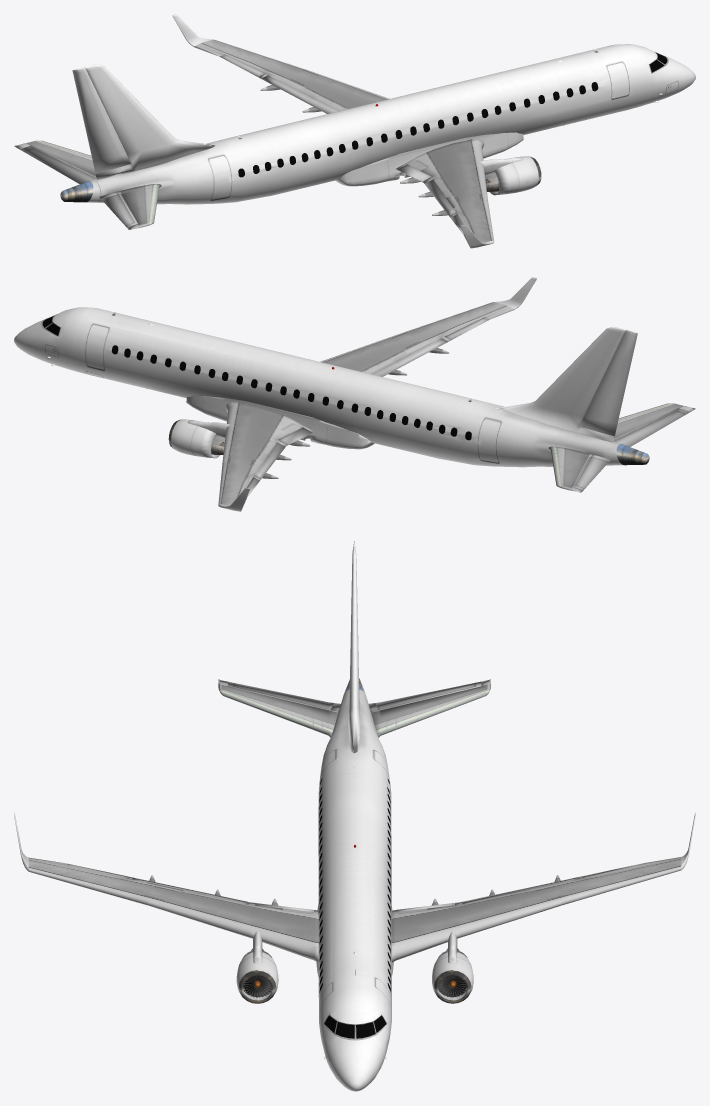
3 renders of one model, top to bottom at view 1: azimuth 30°, elevation 25°; view 2: azimuth 150°, elevation 25°; view 3: azimuth 270°, elevation 25°, orthographic. The views are drawn at different scales.
Parts seen in each view (by area): view 1: fuselage_001, vstab, rudder, fuselage, hstab, wing_002, wing_006, wing_004, wing_003, wing_009, cylinder_003, elevator_l (+9 smaller); view 2: fuselage_001, vstab, rudder, fuselage, hstab, wing_004, wing_007, wing_009, wing_002, wing_003, cylinder_003, elevator_r (+9 smaller); view 3: fuselage_001, hstab, wing_002, wing_004, wing_007, wing_006, wing_009, wing_003, vstab, nacelle, nacelle_001.
Part boxes in pixels (<box>): fuselage_001: <box>87,44,695,204</box>; vstab: <box>84,64,214,180</box>; rudder: <box>72,67,130,173</box>; fuselage: <box>335,132,523,186</box>; hstab: <box>14,140,161,229</box>; wing_002: <box>278,70,389,109</box>; wing_006: <box>396,139,483,182</box>; wing_004: <box>424,164,487,207</box>; wing_003: <box>194,39,308,79</box>; wing_009: <box>449,199,494,242</box>; cylinder_003: <box>238,91,559,177</box>; elevator_l: <box>20,145,96,183</box>; fuselage_001: <box>14,307,623,467</box>; vstab: <box>495,327,625,442</box>; rudder: <box>579,329,637,436</box>; fuselage: <box>186,395,374,449</box>; hstab: <box>548,403,695,492</box>; wing_004: <box>320,333,431,372</box>; wing_007: <box>226,402,314,445</box>; wing_009: <box>401,302,514,342</box>; wing_002: <box>222,427,285,470</box>; wing_003: <box>218,462,260,505</box>; cylinder_003: <box>150,354,471,440</box>; elevator_r: <box>614,408,689,446</box>; fuselage_001: <box>318,689,391,1091</box>; hstab: <box>218,679,490,737</box>; wing_002: <box>459,882,562,937</box>; wing_004: <box>147,882,250,937</box>; wing_007: <box>391,902,459,962</box>; wing_006: <box>250,902,318,962</box>; wing_009: <box>28,857,147,905</box>; wing_003: <box>562,857,681,904</box>; vstab: <box>348,547,360,752</box>; nacelle: <box>236,957,278,1003</box>; nacelle_001: <box>432,957,473,1003</box>.
Size of the model in its own units: 35.83 by 10.22 by 28.2.
Materials: 15 (12 with a texture image).
